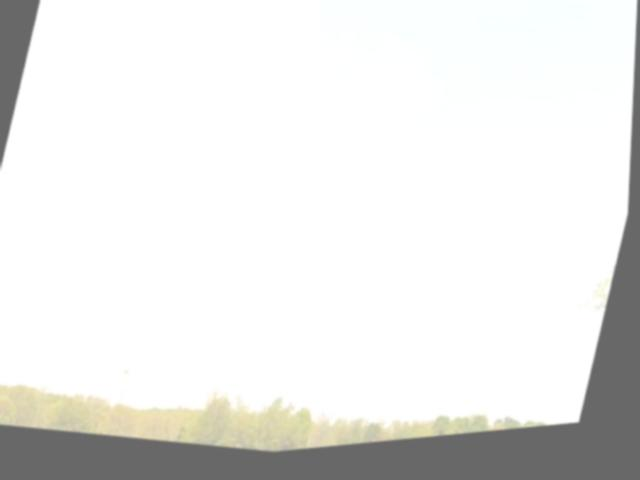iha: (267, 292, 289, 310)
